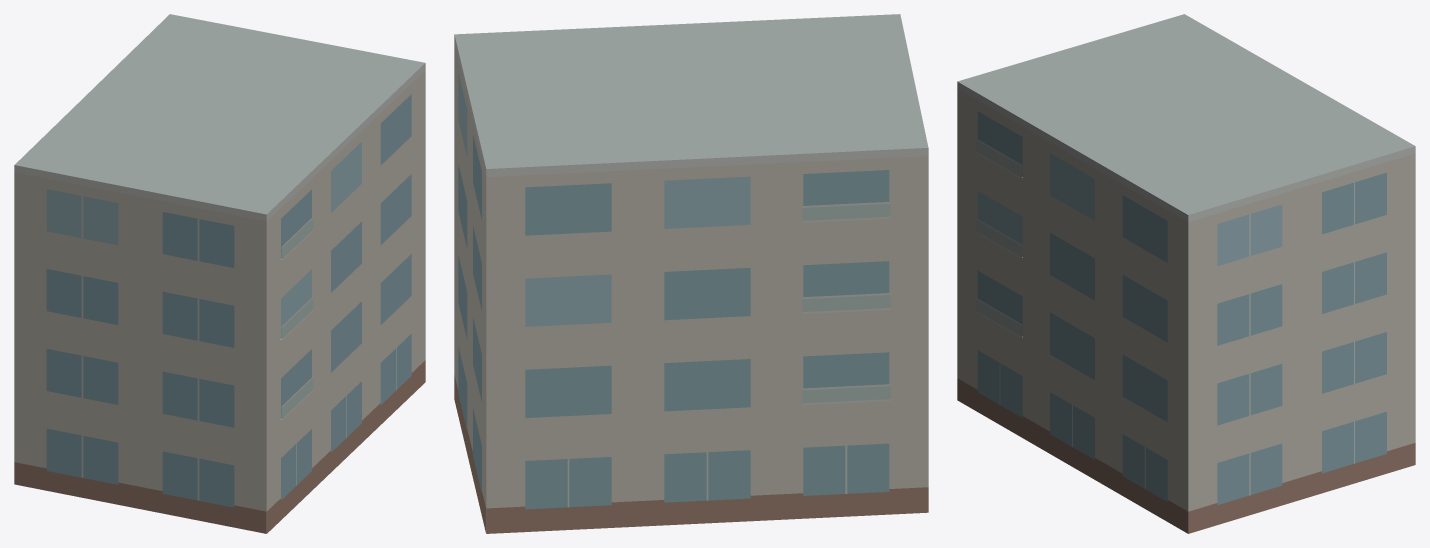
The model's file is survey-upis-32536733.glb.
3 renders of one model, left to right at view 1: azimuth 30°, elevation 25°; view 2: azimuth 150°, elevation 25°; view 3: azimuth 270°, elevation 25°, orthographic. The views are drawn at different scales.
Parts seen in each view (by area): view 1: survey-upis-32536733.tmp; view 2: survey-upis-32536733.tmp; view 3: survey-upis-32536733.tmp.
Part boxes in pixels (x1,y1,x2,y2): survey-upis-32536733.tmp: (14,14,425,533); survey-upis-32536733.tmp: (454,14,928,533); survey-upis-32536733.tmp: (957,14,1415,533).
Bounding box in the file's own units: 14.9 × 11 × 14.35.
